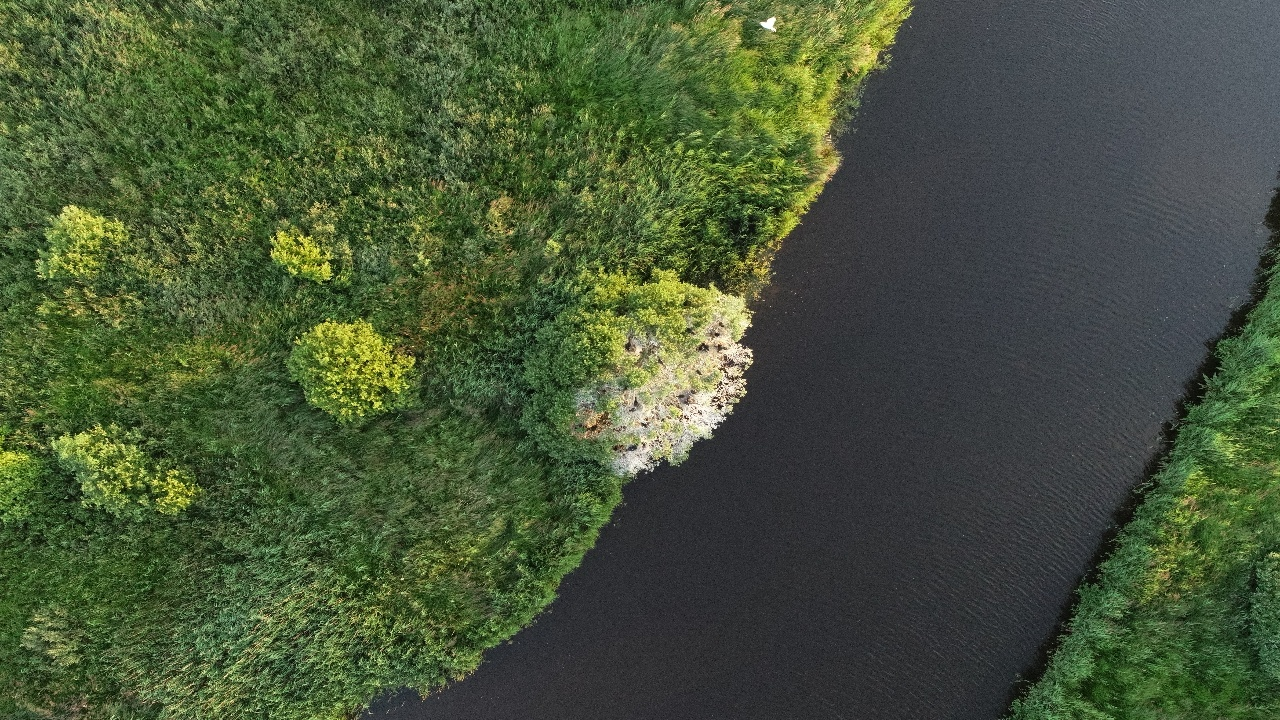Bird: (747, 8, 788, 42)
